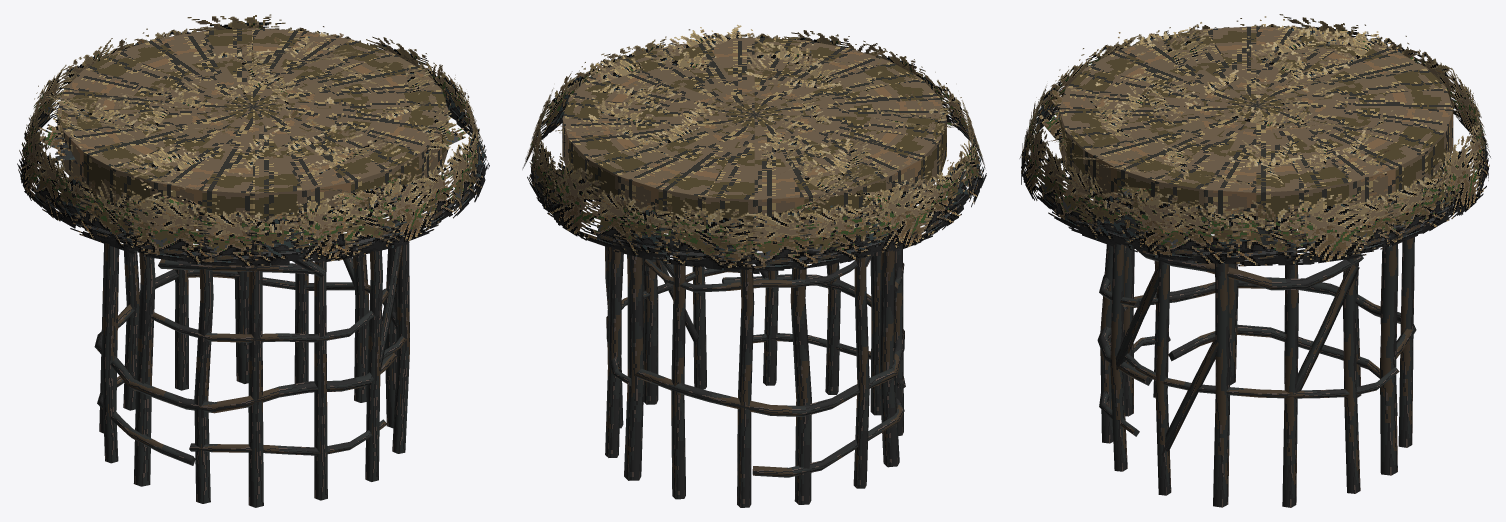
File: cage.glb
3 renders of one model, left to right at view 1: azimuth 30°, elevation 25°; view 2: azimuth 150°, elevation 25°; view 3: azimuth 270°, elevation 25°, orthographic. The views are drawn at different scales.
Parts seen in each view (by area): view 1: cage-212-15; view 2: cage-212-15; view 3: cage-212-15.
Boxes of the visible parts, x1=… form: cage-212-15: x1=17, y1=14, x2=489, y2=507; cage-212-15: x1=522, y1=24, x2=986, y2=507; cage-212-15: x1=1019, y1=14, x2=1490, y2=507.
Bounding box in the file's own units: 3.15 × 2.51 × 3.13.
Materials: 3 (3 with a texture image).
